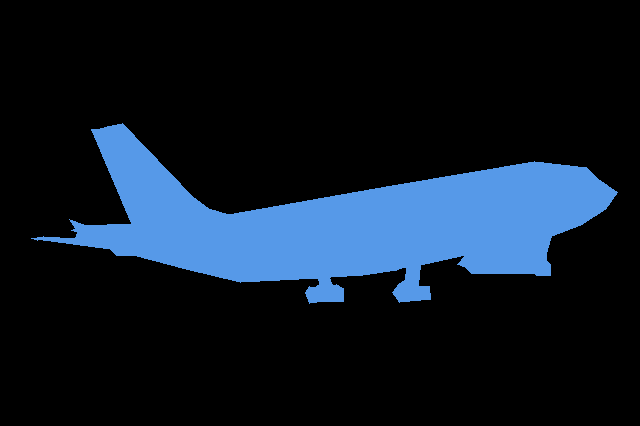Airplane: (31, 123, 617, 303)
